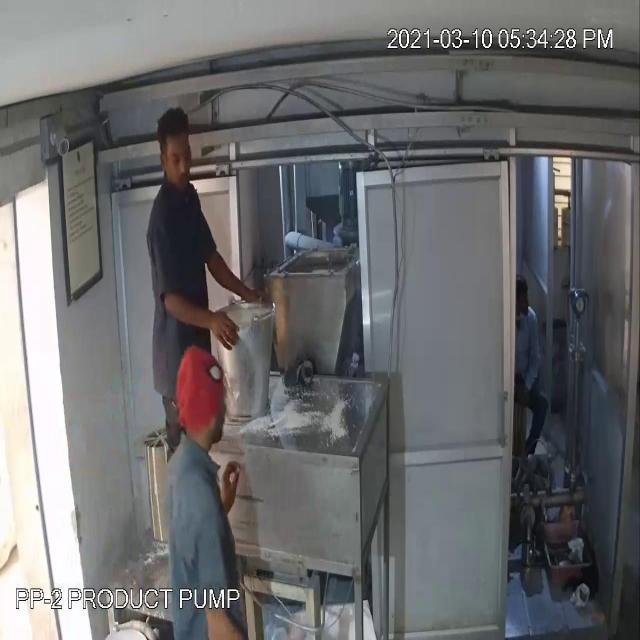No_Gloves: (69, 78, 234, 320)
